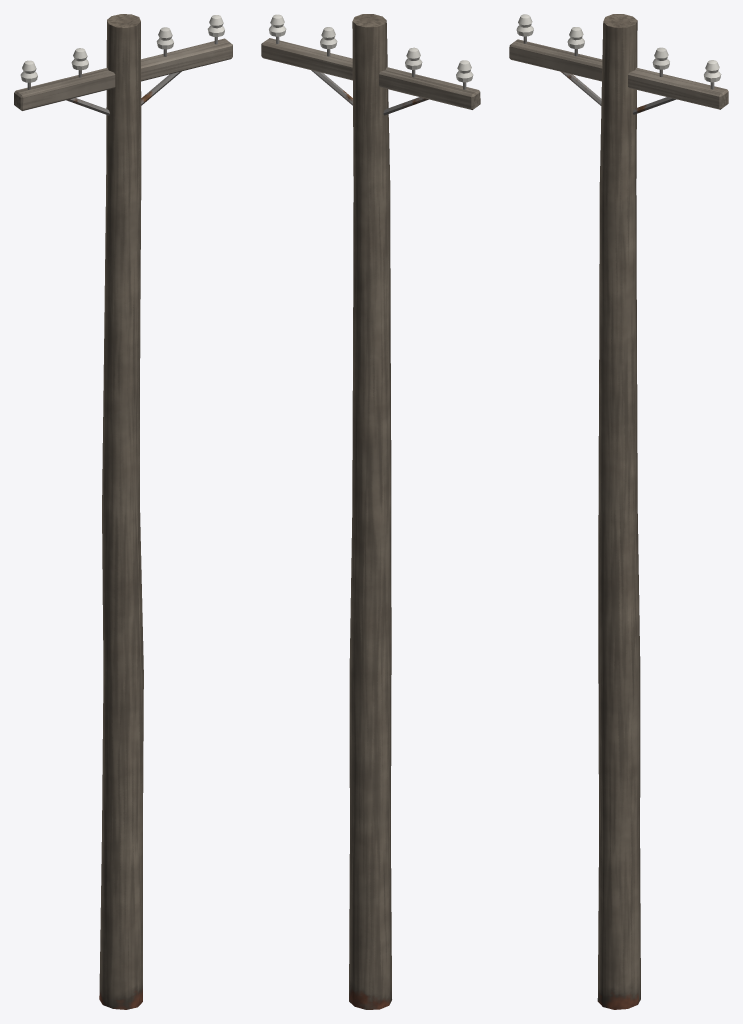
File: WoodenPolePlain.fbx
3 views of the same model, side by side, from view 1: azimuth 30°, elevation 25°; view 2: azimuth 150°, elevation 25°; view 3: azimuth 330°, elevation 25° (orthographic).
Parts seen in each view (by area): view 1: WoodenPolePlain; view 2: WoodenPolePlain; view 3: WoodenPolePlain.
Part boxes in pixels (box(x1,y1,x2,y2)): WoodenPolePlain: box(14, 14, 232, 1009); WoodenPolePlain: box(261, 14, 480, 1009); WoodenPolePlain: box(509, 14, 728, 1009).
Size of the model in its own units: 140 by 617 by 24.
1 material, 1 textured.
